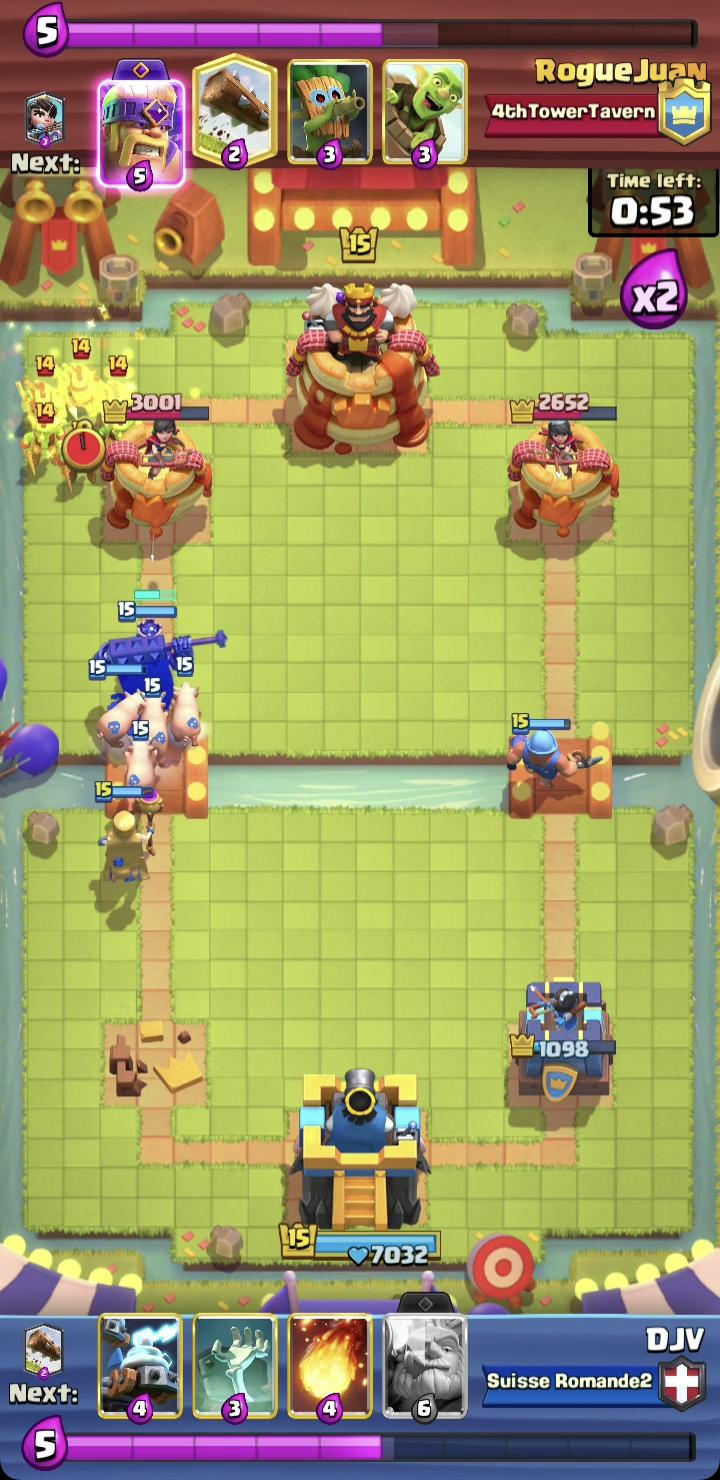ally_cursedhog: (88, 658, 147, 751), (165, 655, 203, 749), (132, 677, 170, 767), (124, 719, 157, 801)
ally_fisherman: (506, 711, 604, 791)
ally_motherwitch: (90, 780, 162, 889)
ally_skeletonking: (94, 588, 227, 718)
enemy_goblin: (19, 401, 65, 479), (60, 414, 97, 492)
enemy_spear_goblin: (12, 354, 66, 430), (56, 337, 105, 417), (95, 354, 138, 425)
